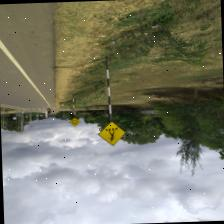yellowboard: (98, 120, 127, 146)
